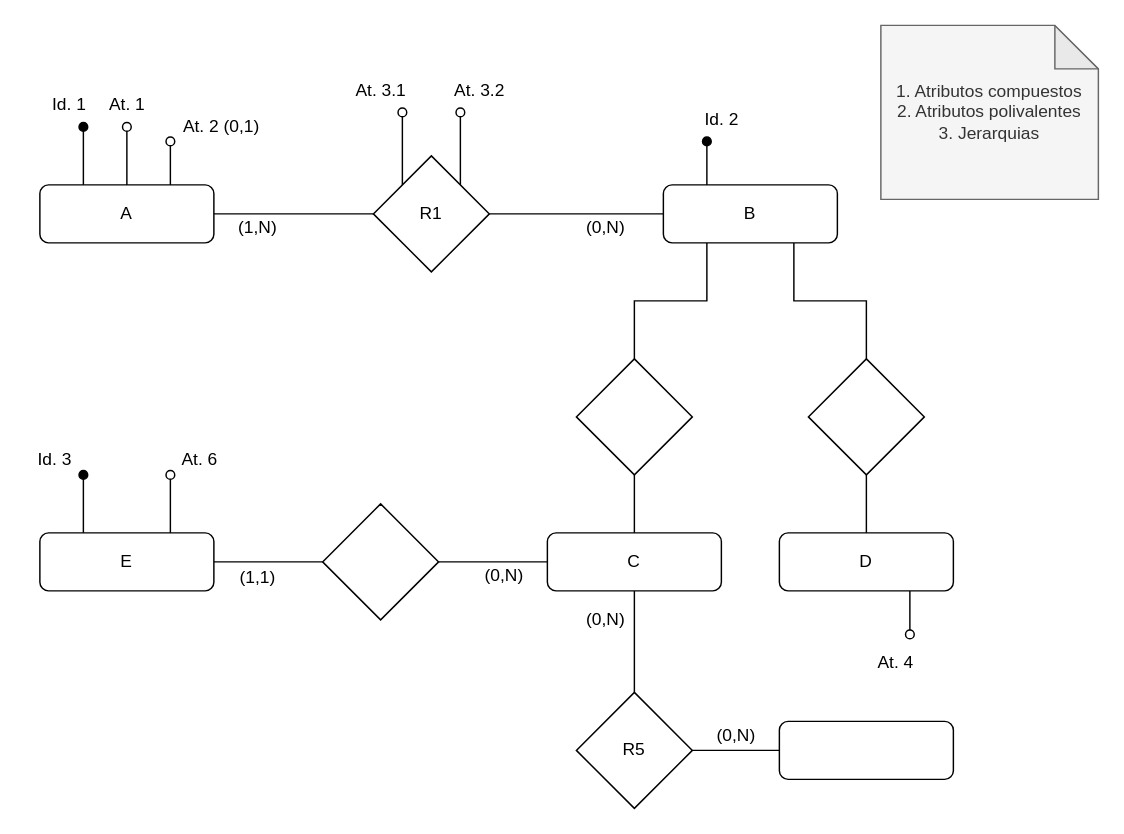
The diagram is 1124 pixels wide and 834 high, and some of its shapes have lost their labels. The shapes that lost their labels are listed below. From the top down, each one's centre as x and y in pixels, then its label:
At [633,416]: "RB_C".
At [865,416]: "RB_D".
At [380,561]: "R2".
At [865,749]: "At. 5".
